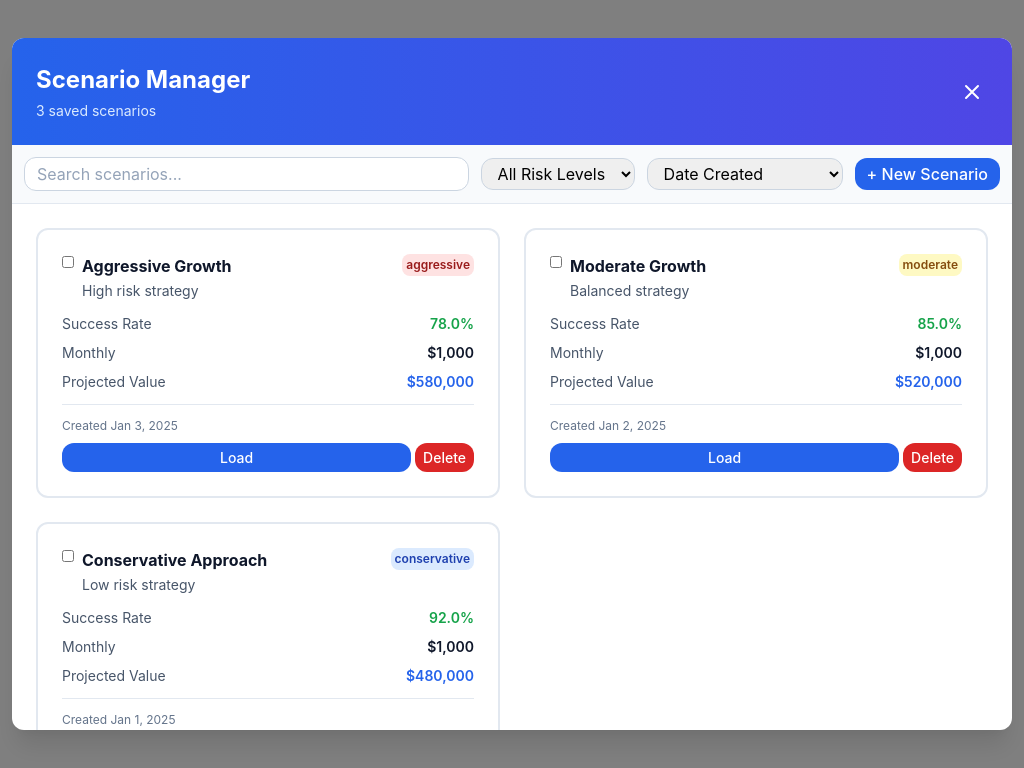
Scenario: ScenarioManager › Search and Filter › should show "no results" message when filters return empty
The image size is (1024, 768).
expect the heading "Conservative Approach" is shown: met, box [82,550,267,570]
Type "nonexistent" into the field with placeholder "Search scenarios...". click: (246, 174)
box: [24,157,469,191]
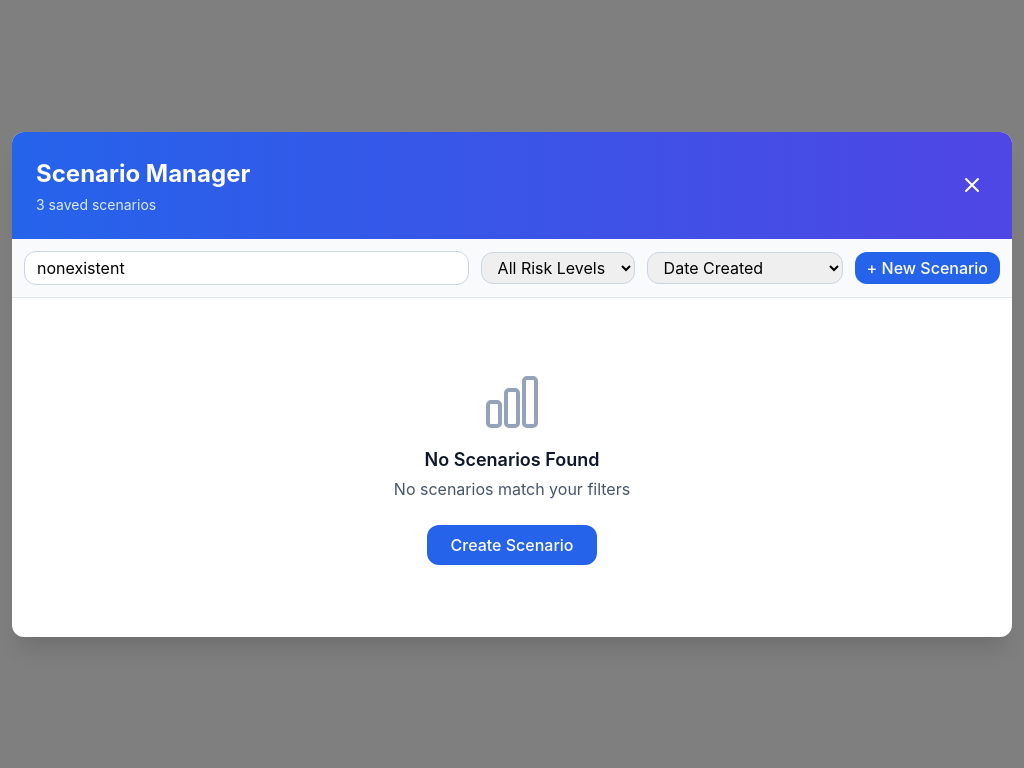
expect the text "No scenarios match your filters" is shown: met, box [394,478,630,498]
